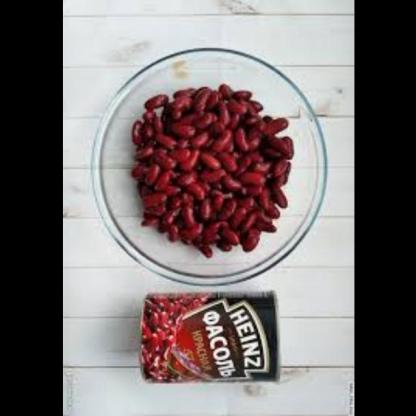fasol: (131, 76, 296, 257), (137, 288, 204, 376)
